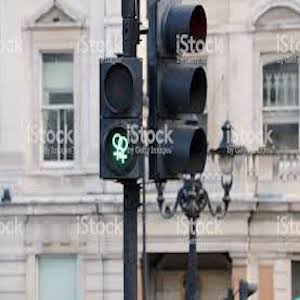green: (107, 132, 131, 162)
